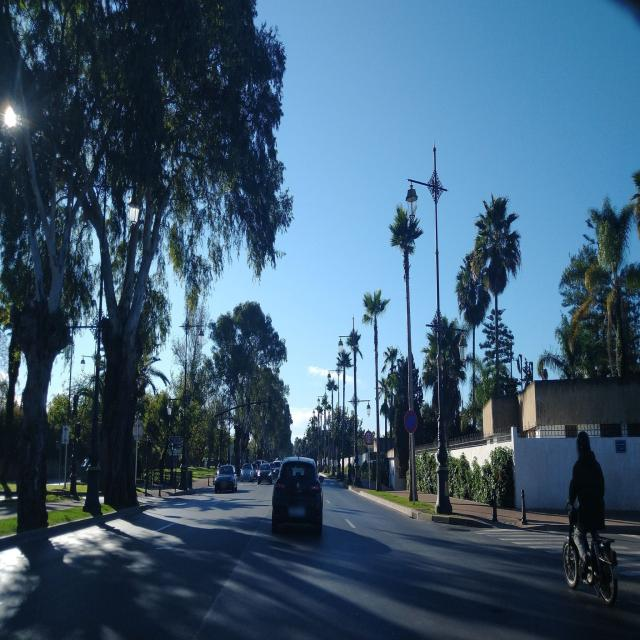forb_stopping: (404, 409, 417, 434)
